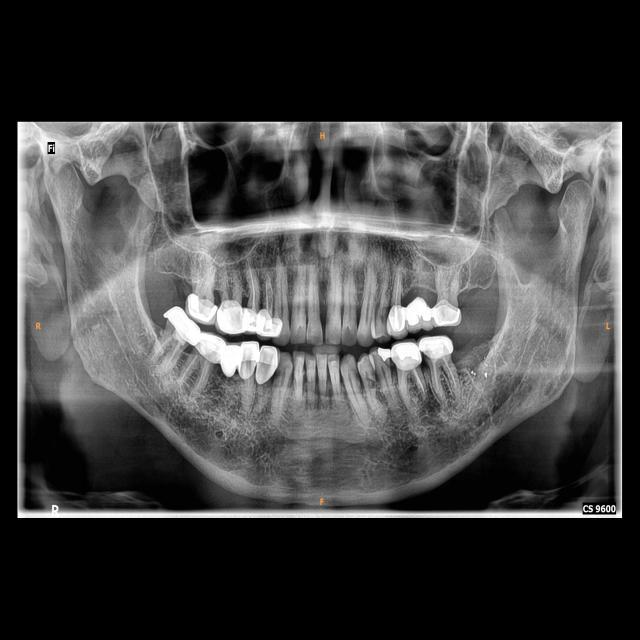dentin-curugu: (276, 362, 287, 388)
dolgu: (371, 346, 392, 364)
kanal-tedavisi: (174, 350, 216, 396), (145, 329, 187, 373), (431, 355, 460, 395), (399, 365, 425, 402), (245, 262, 259, 304), (260, 272, 274, 313), (393, 270, 404, 306)
kaplama: (159, 300, 206, 351), (189, 328, 231, 368), (254, 343, 285, 389), (236, 340, 262, 382), (215, 299, 242, 333), (391, 338, 422, 367), (188, 290, 216, 322), (420, 334, 455, 359), (433, 298, 462, 325), (258, 308, 282, 337), (388, 304, 407, 332), (242, 308, 260, 336)
kopru: (210, 341, 249, 386), (399, 293, 440, 332)
